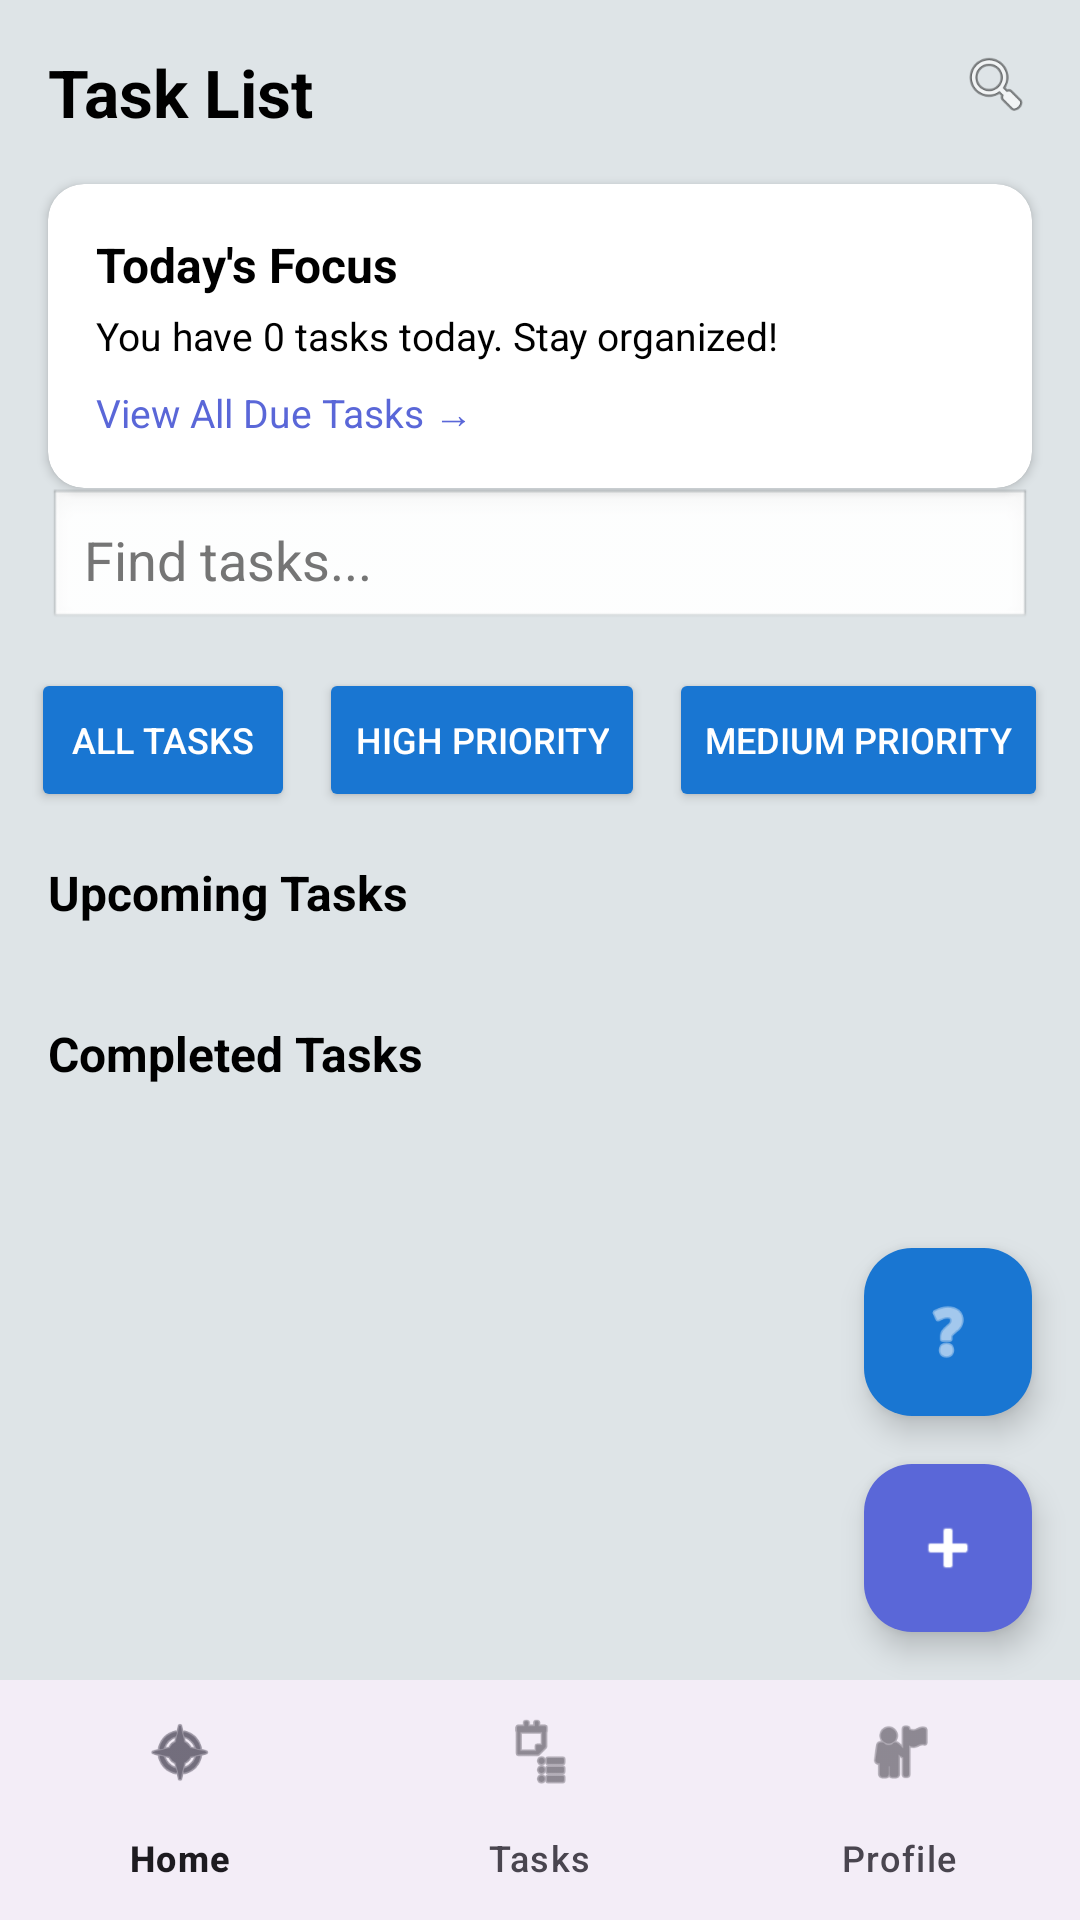

Locate icon controls on the screen. Image size 1080w x 1920h, boxes as (x1, y1, x2, y2).
Add Task: (864, 1464, 1032, 1632)
Ask AI: (864, 1248, 1032, 1416)
Search: (969, 58, 1023, 111)
